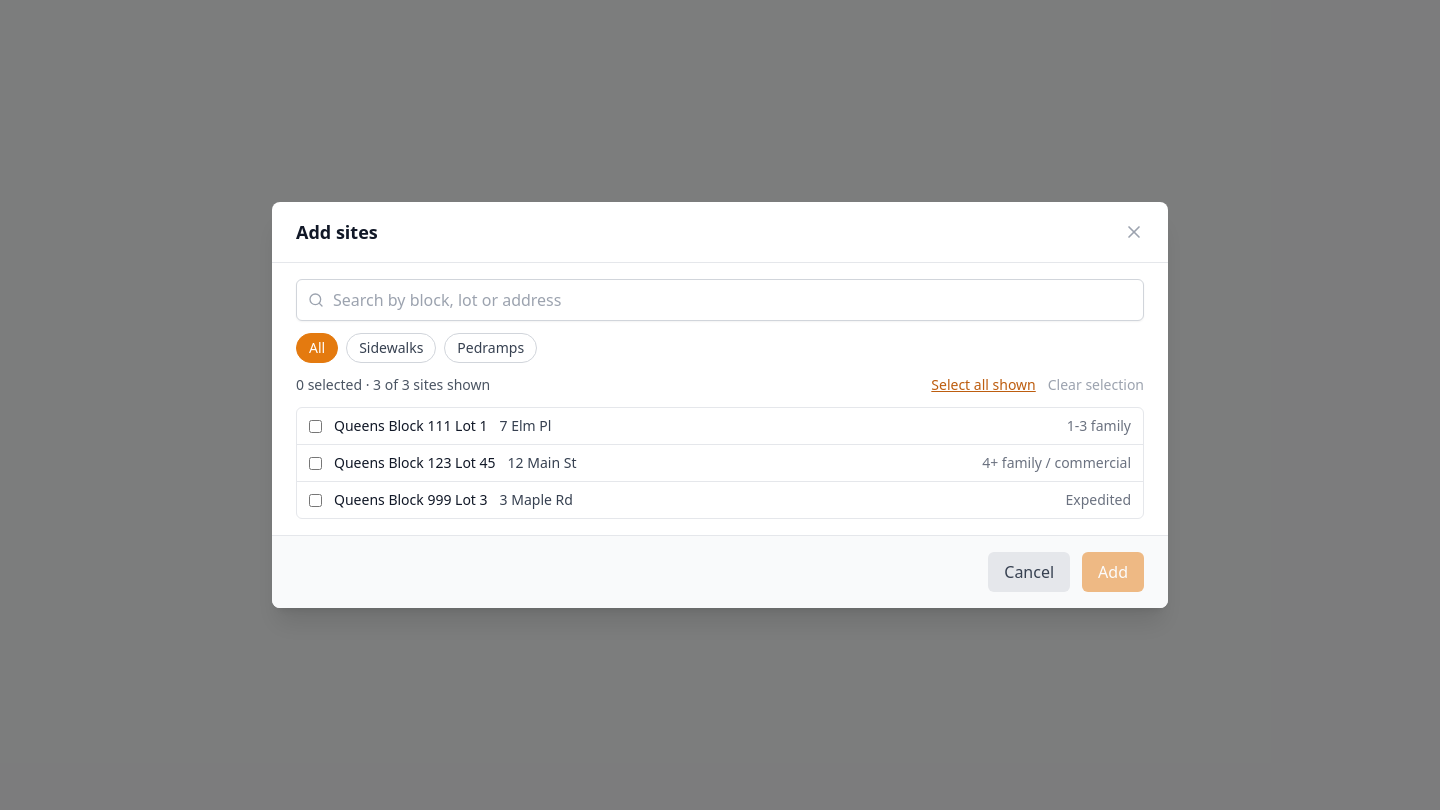
PropertyPickerModal › selects several, and "Select all shown" ticks only the rows the search shows
Check: the search field is shown, box [296,279,1144,321]
Step 1. Click the checkbox labelled "Queens Block 111 Lot 1 7 Elm Pl 1-3 family" → (316, 426), box [309,420,322,432]
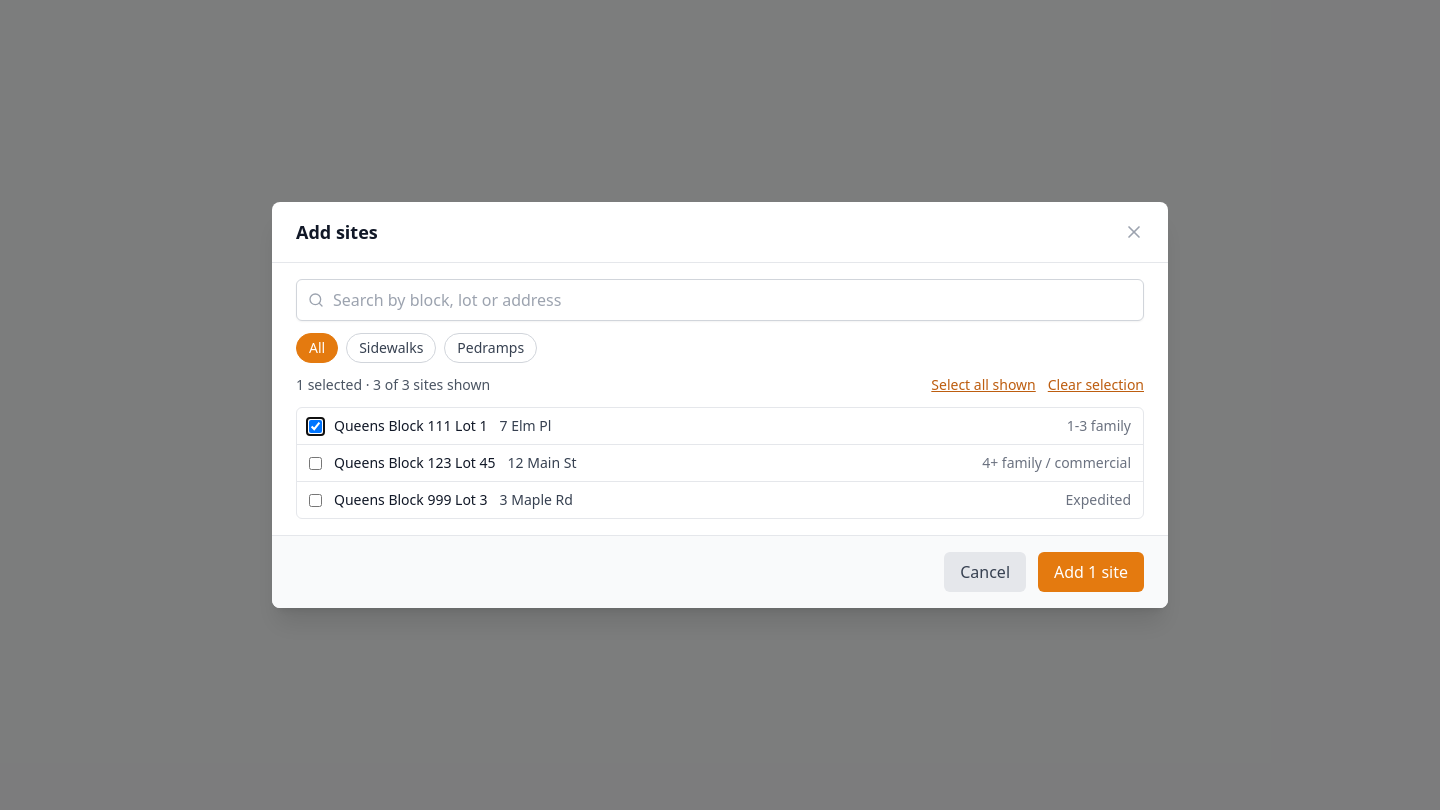
Check: the button "Add 1 site" is enabled, box [1038,552,1144,592]
Step 2. Type "Rd" into the search field labelled "Search by block, lot or address" → (720, 300), box [296,279,1144,321]
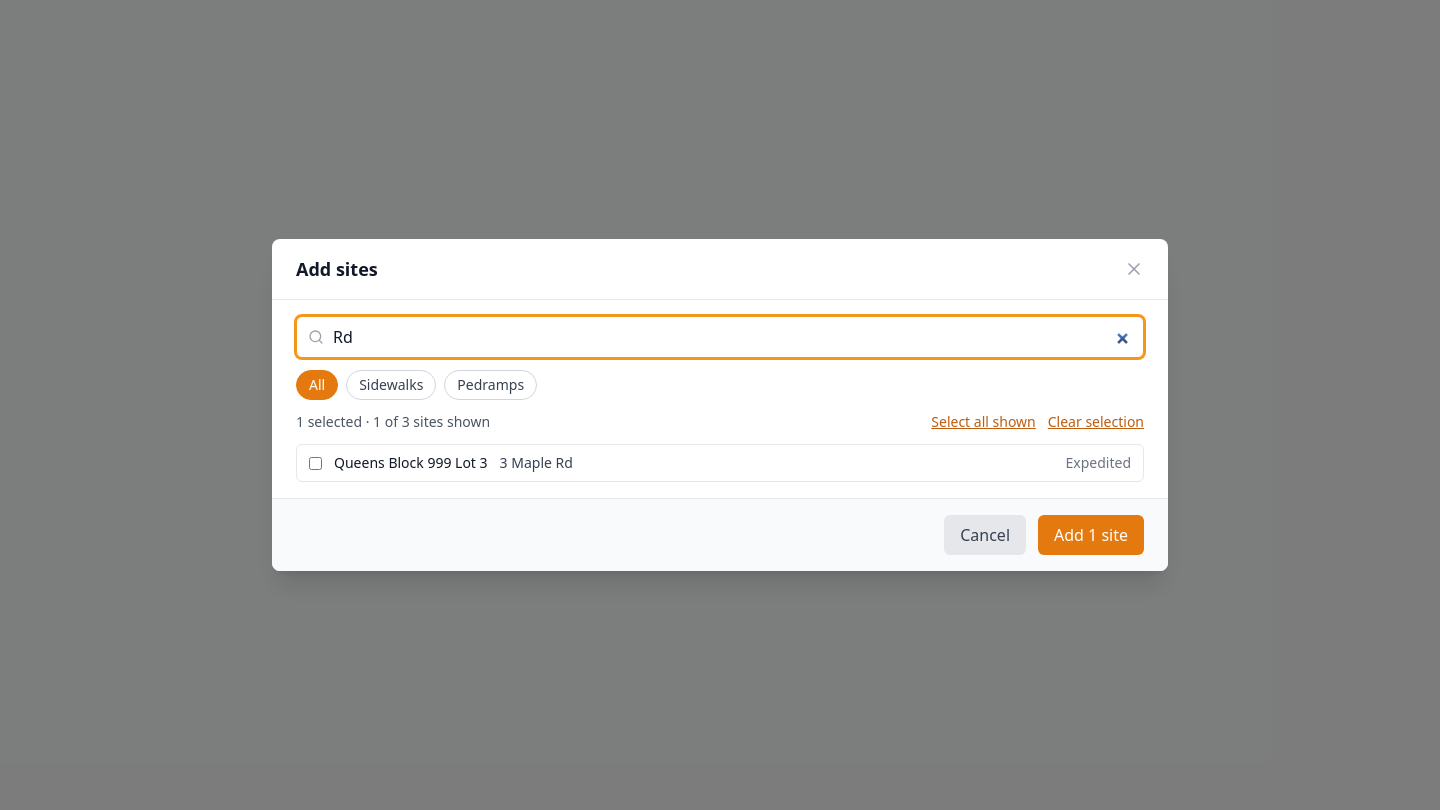
Step 3. Click the button "Select all shown" → (984, 422), box [931,412,1036,432]
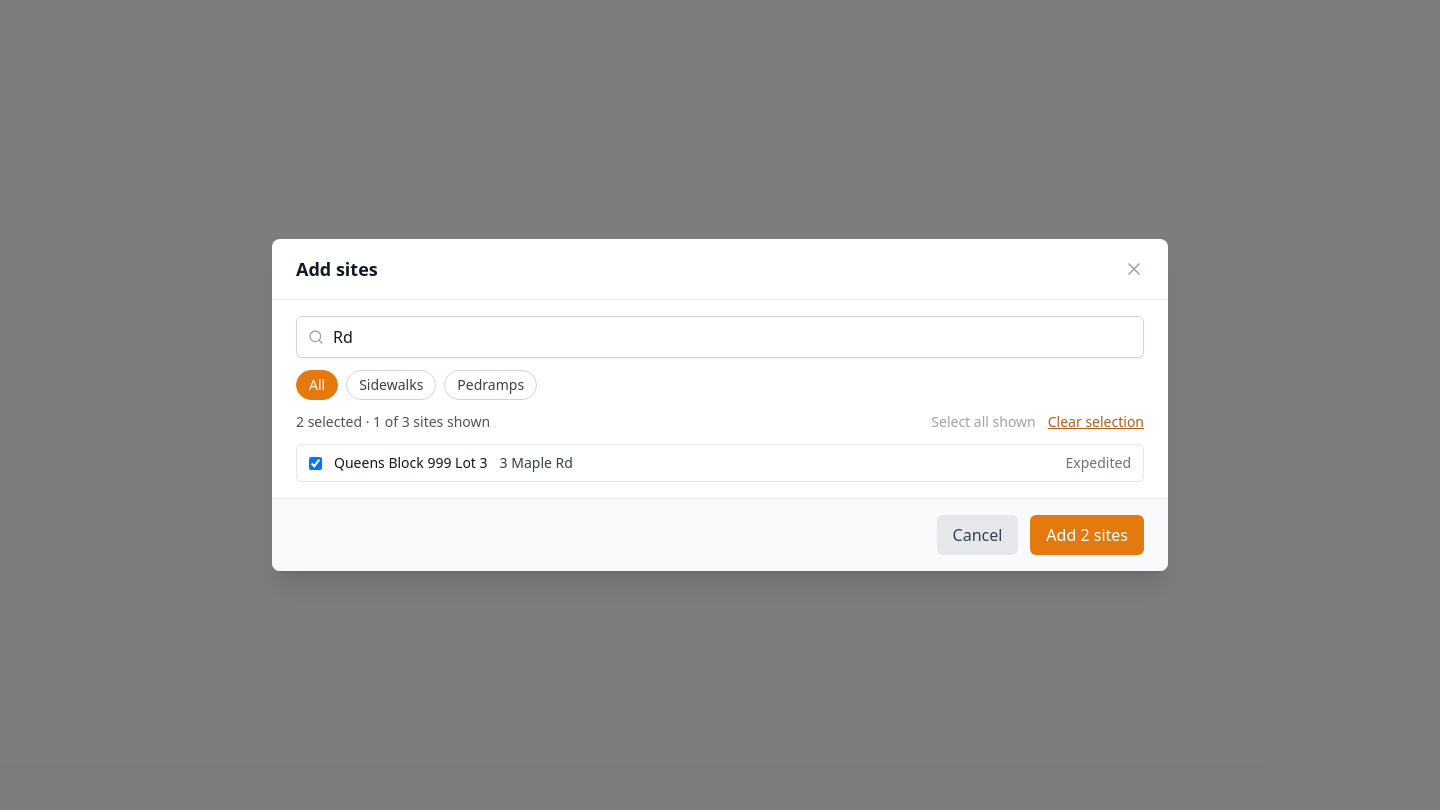
Check: the button "Select all shown" is disabled, box [931,412,1036,432]
Step 4. Clear the search field named "Search by block, lot or address" → (720, 337), box [296,316,1144,358]
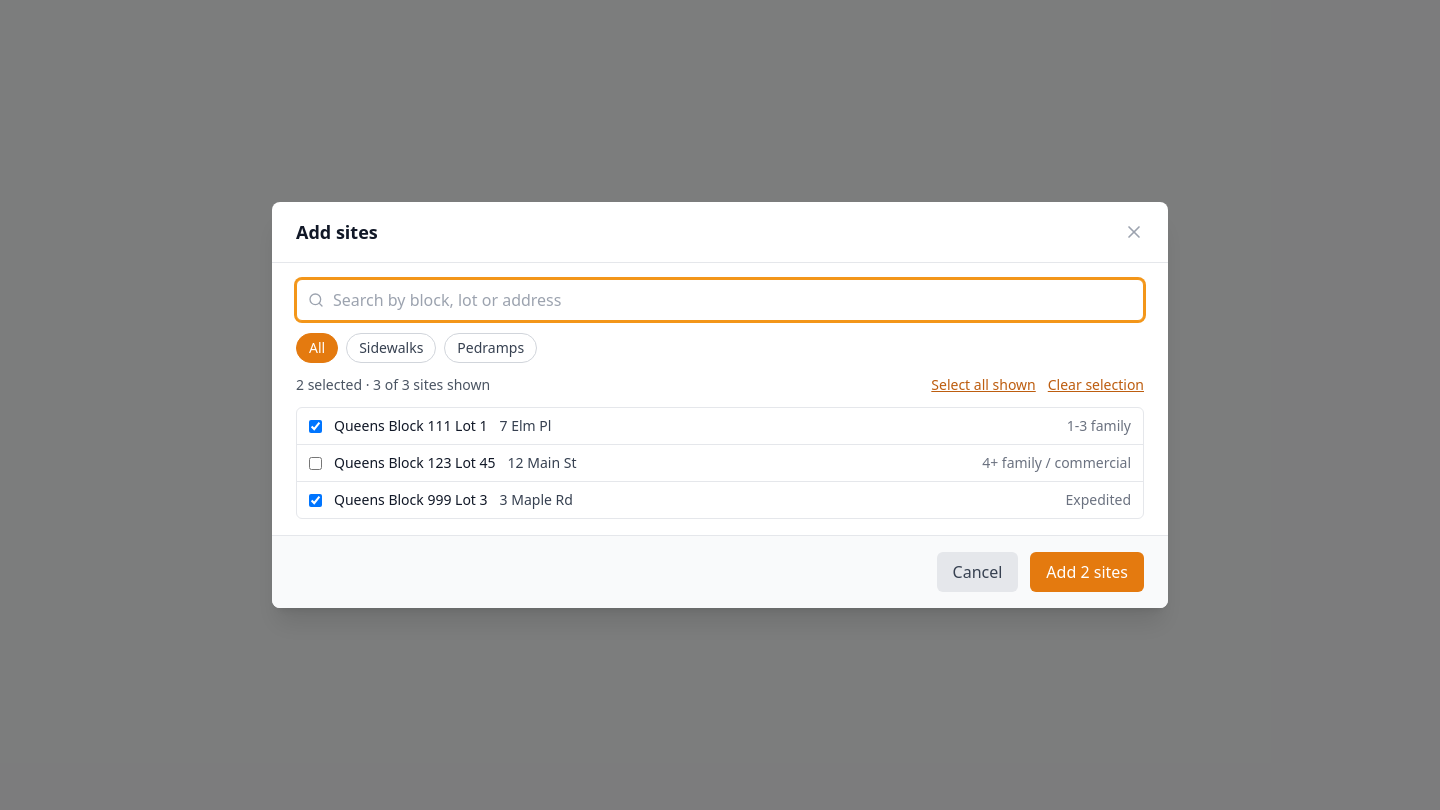
Check: the button "Add 2 sites" is enabled, box [1030,552,1144,592]
Step 5. Click the button "Clear selection" → (1096, 385), box [1048,375,1144,395]
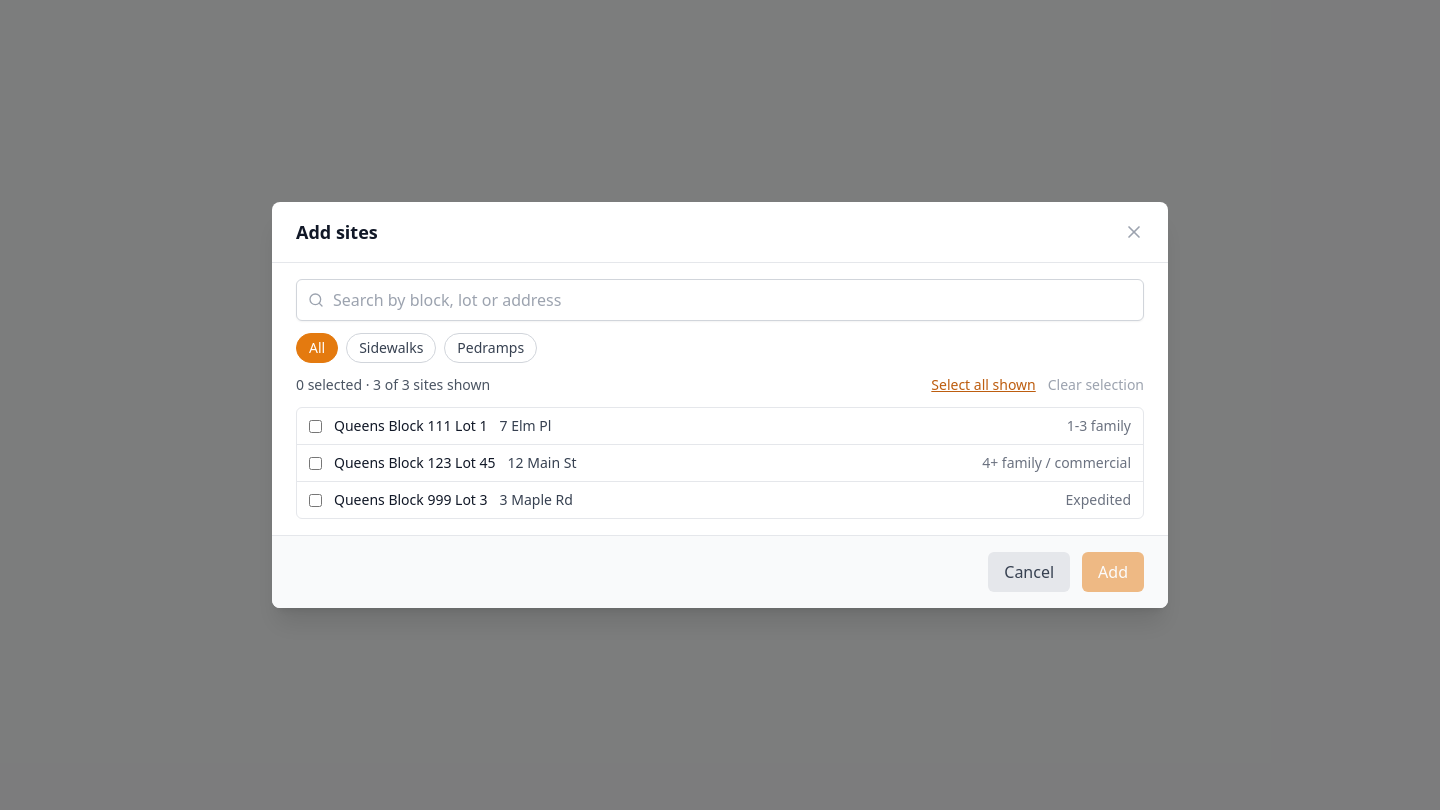
Check: the button "Add" is disabled, box [1082,552,1144,592]
